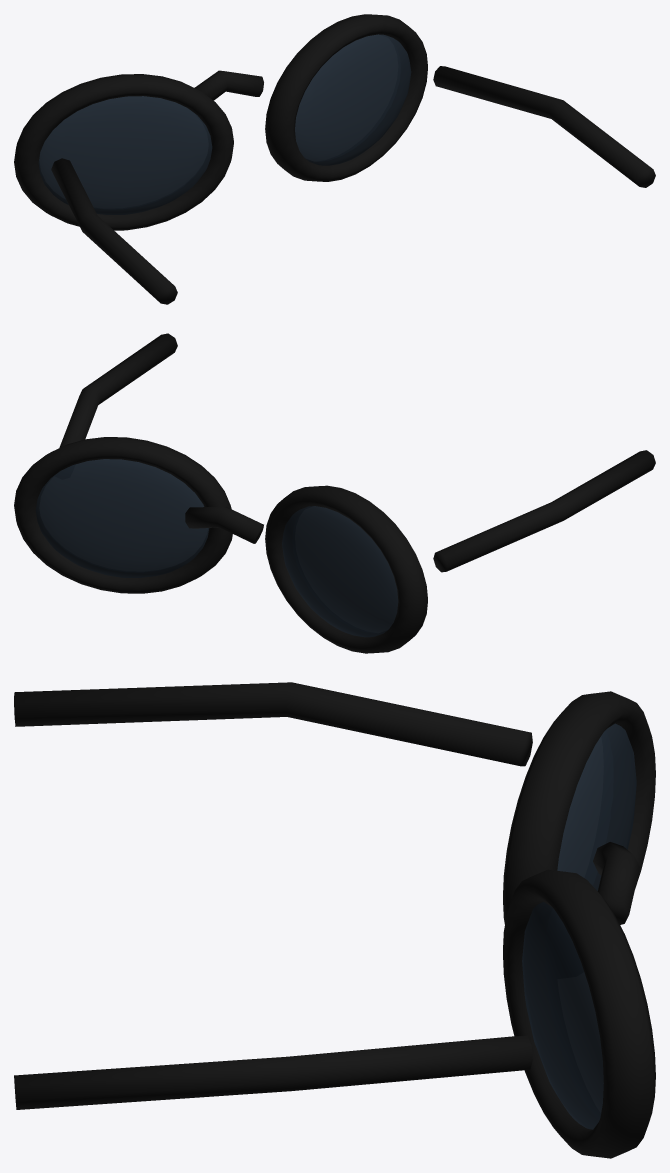
File: cosmetics-sunglasses.glb
The picture shows the model from 3 angles, top to bottom: view 1: azimuth 30°, elevation 25°; view 2: azimuth 150°, elevation 25°; view 3: azimuth 270°, elevation 25°; orthographic projection. The views are drawn at different scales.
Visible parts, largest first — view 1: Sunglasses__Frame, Sunglasses__Lenses; view 2: Sunglasses__Frame, Sunglasses__Lenses; view 3: Sunglasses__Frame, Sunglasses__Lenses.
Part boxes in pixels (<box>): Sunglasses__Frame: <box>14,14,655,304</box>; Sunglasses__Lenses: <box>38,34,411,214</box>; Sunglasses__Frame: <box>14,333,655,653</box>; Sunglasses__Lenses: <box>35,459,398,637</box>; Sunglasses__Frame: <box>14,682,655,1158</box>; Sunglasses__Lenses: <box>522,723,636,1129</box>.
Size of the model in its own units: 1.79 by 0.5198 by 1.22.
